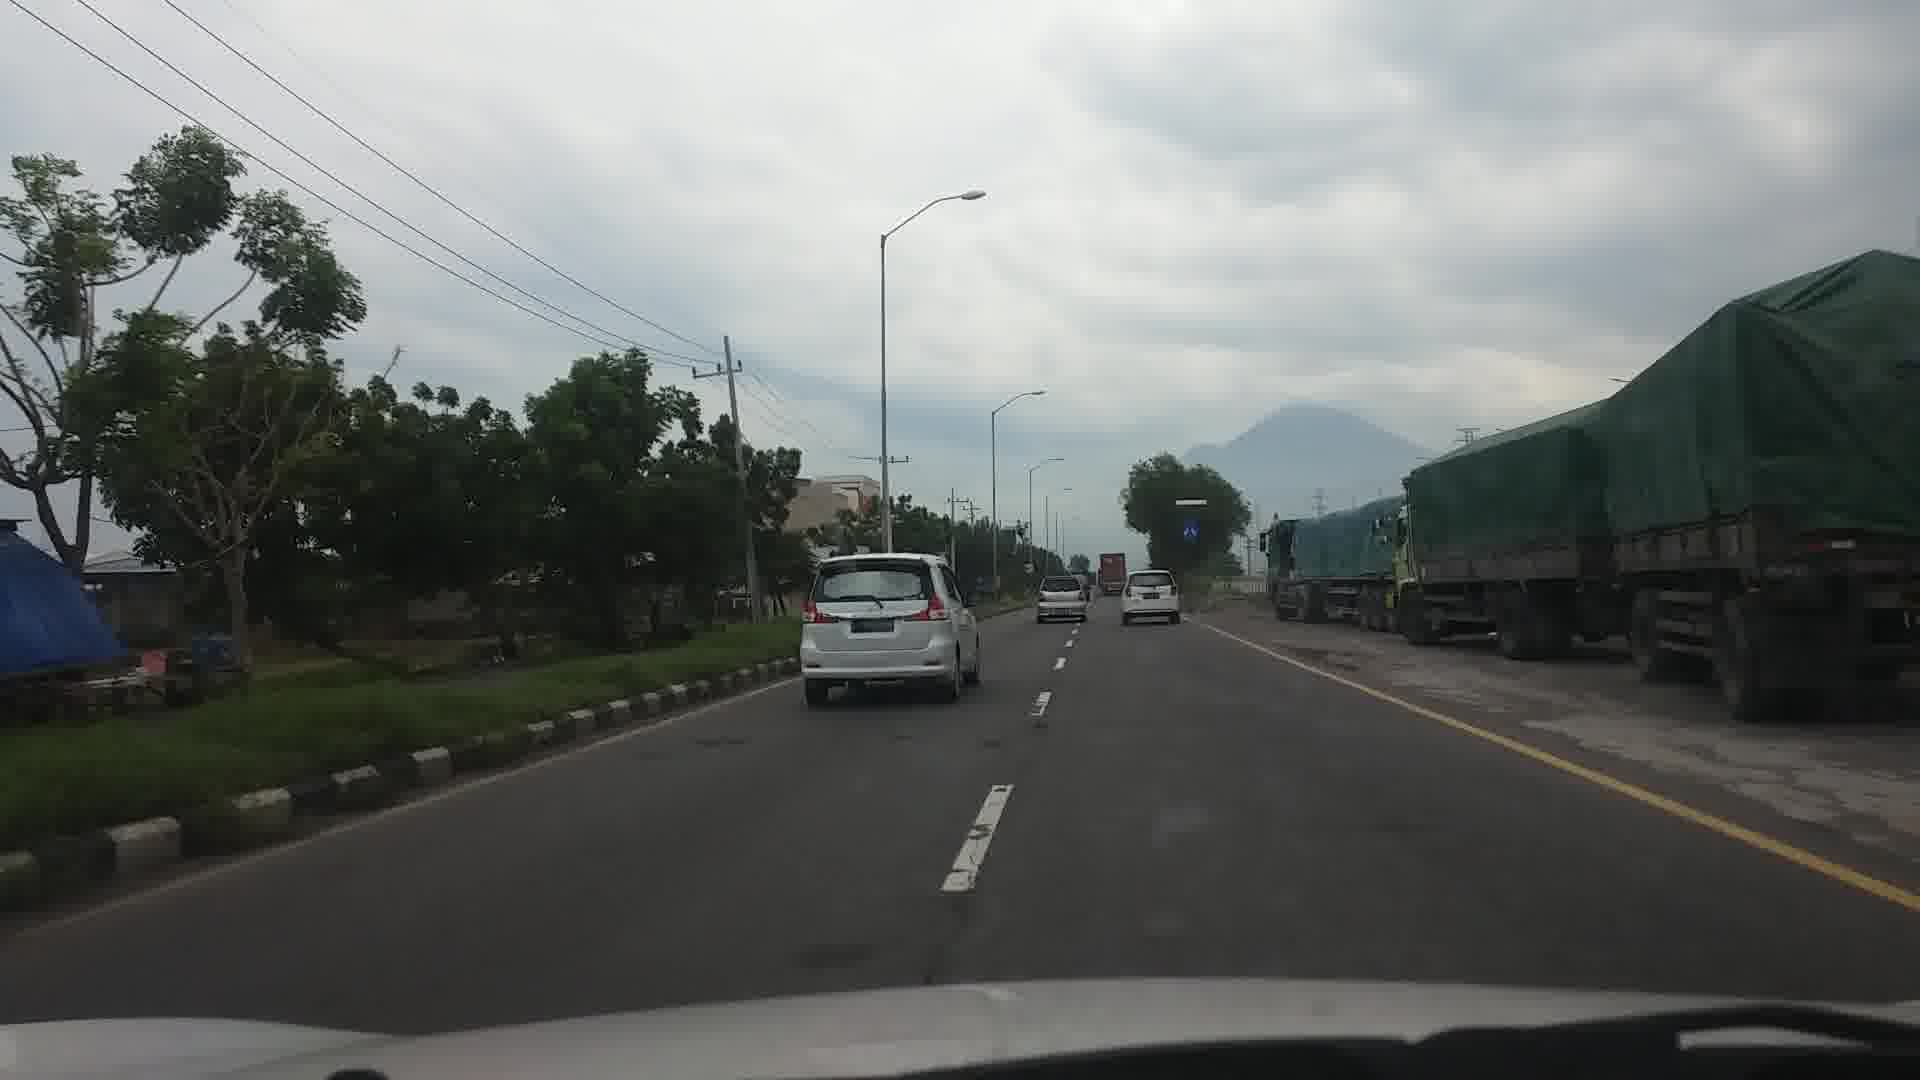plate_positive: (851, 618, 893, 634)
